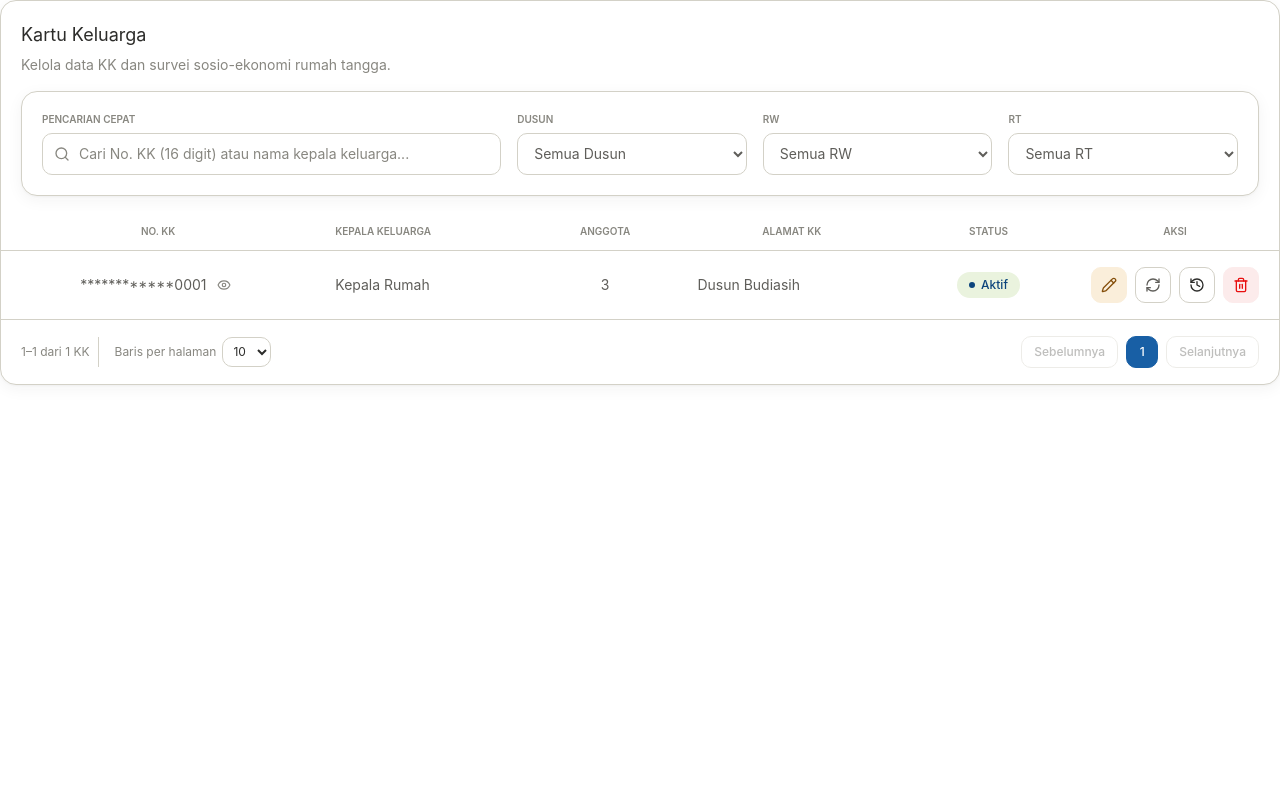
Scenario: FamilyManagementPanel › lists the family members when editing a family
Click the button named "Edit KK".
click(1109, 285)  # box [1091,267,1127,303]
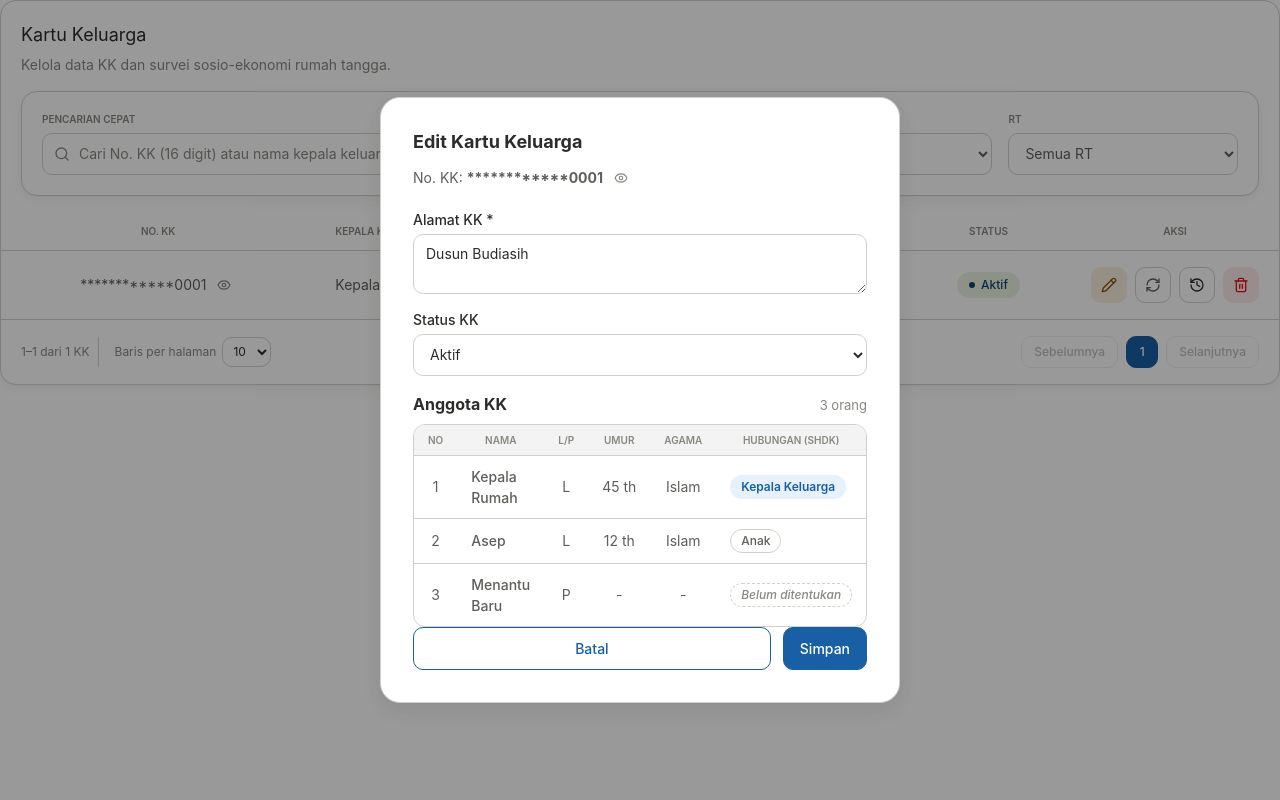
Check: the text "Anggota KK" is shown, box [413,392,507,416]
Check: the text "3 orang" is shown, box [820,396,867,415]
Check: the text "Belum ditentukan" is shown, box [730,583,852,607]
